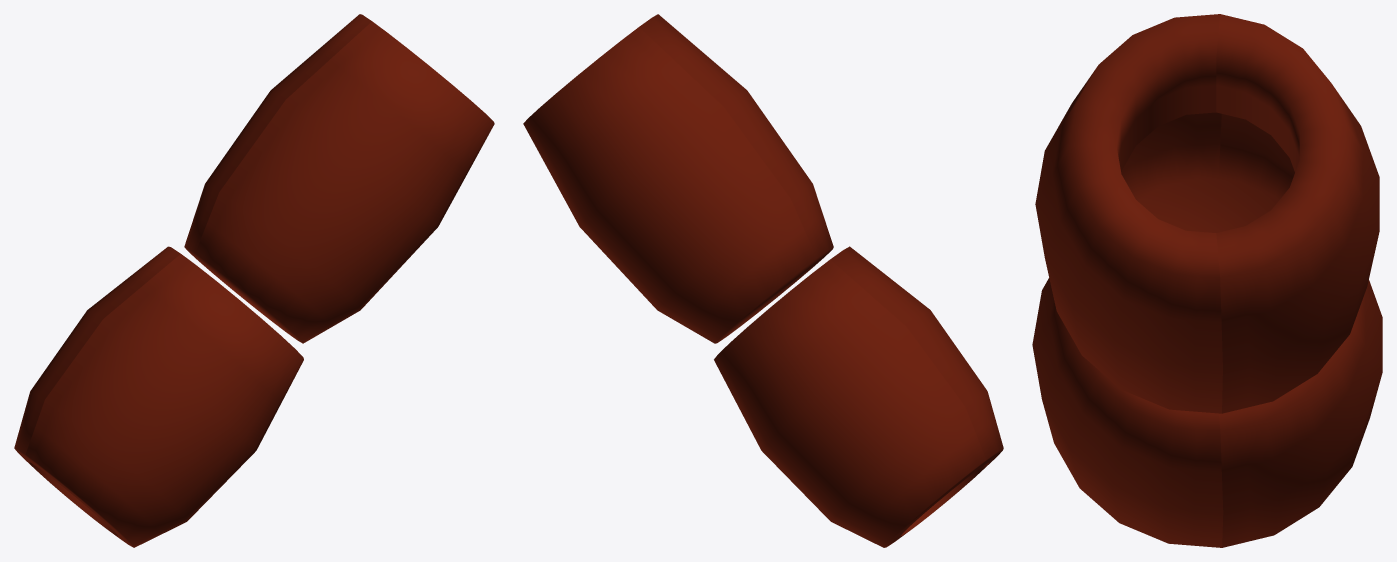
Rendered from lengan_kanan.obj.
3 renders of one model, left to right at view 1: azimuth 30°, elevation 25°; view 2: azimuth 150°, elevation 25°; view 3: azimuth 270°, elevation 25°, orthographic. The views are drawn at different scales.
Visible parts, largest first — view 1: Cylinder.017_Cylinder.018, Cylinder.016_Cylinder.011; view 2: Cylinder.017_Cylinder.018, Cylinder.016_Cylinder.011; view 3: Cylinder.017_Cylinder.018, Cylinder.016_Cylinder.011.
Boxes of the visible parts, bbox=[...] form: Cylinder.017_Cylinder.018: bbox=[184, 14, 494, 343]; Cylinder.016_Cylinder.011: bbox=[14, 246, 303, 547]; Cylinder.017_Cylinder.018: bbox=[523, 14, 833, 343]; Cylinder.016_Cylinder.011: bbox=[714, 246, 1003, 547]; Cylinder.017_Cylinder.018: bbox=[1035, 14, 1379, 413]; Cylinder.016_Cylinder.011: bbox=[1032, 278, 1382, 547].
Bounding box in the file's own units: 2.52 × 2.42 × 1.06.
